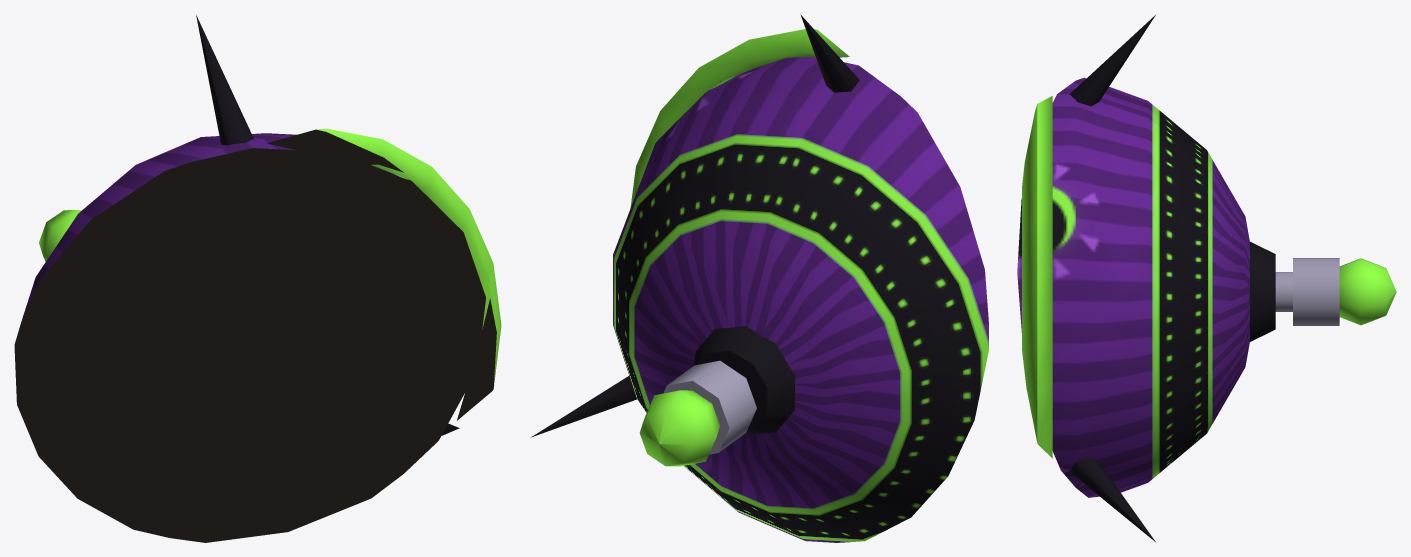
Rendered from dominion_turret_pod_debris1.obj.
3 renders of one model, left to right at view 1: azimuth 30°, elevation 25°; view 2: azimuth 150°, elevation 25°; view 3: azimuth 270°, elevation 25°, orthographic. The views are drawn at different scales.
Visible parts, largest first — view 1: orb, band, spike, ray_tip; view 2: orb, emitter_base, band, ray_tip, ray_ring, spike; view 3: orb, band, spike, ray_ring, ray_tip, emitter_base, ray.
Part boxes in pixels (x1,y1,x2,y2): orb: (14, 133, 485, 542); band: (267, 128, 501, 420); spike: (196, 15, 459, 448); ray_tip: (39, 210, 81, 261); orb: (613, 57, 988, 542); emitter_base: (694, 326, 795, 435); band: (630, 29, 849, 207); ray_tip: (639, 390, 719, 466); ray_ring: (663, 360, 756, 454); spike: (530, 14, 859, 437); orb: (1017, 77, 1250, 497); band: (1022, 96, 1052, 458); spike: (1069, 15, 1155, 541); ray_ring: (1293, 258, 1339, 325); ray_tip: (1339, 258, 1396, 325); emitter_base: (1249, 241, 1275, 341); ray: (1275, 272, 1292, 311).
Bounding box in the file's own units: 5.28 × 5.89 × 4.46.
Materials: 5 (1 with a texture image).
